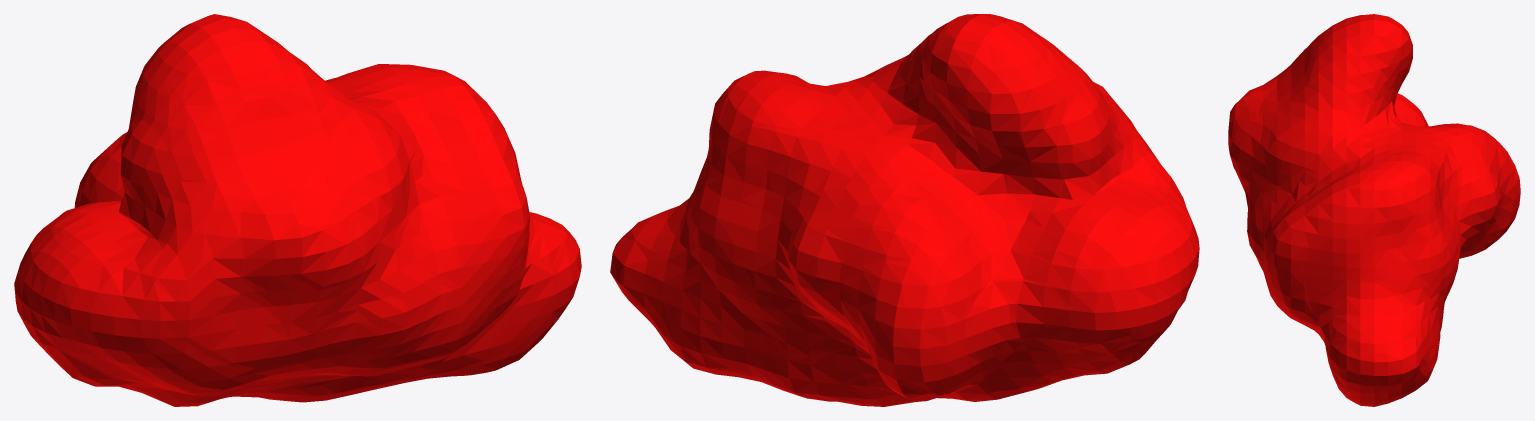
The model's file is yaeH_coarse.dae.
3 views of the same model, side by side, from view 1: azimuth 30°, elevation 25°; view 2: azimuth 150°, elevation 25°; view 3: azimuth 270°, elevation 25° (orthographic). The views are drawn at different scales.
Parts seen in each view (by area): view 1: yaeH; view 2: yaeH; view 3: yaeH.
Boxes of the visible parts, x1,y1,x2,y2 form: yaeH: (14,14,581,406); yaeH: (610,14,1199,406); yaeH: (1228,14,1520,406).
Size of the model in its own units: 57.12 by 40.23 by 36.37.
